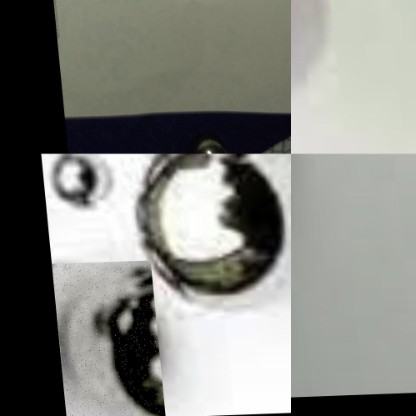ironball: (128, 153, 290, 318), (47, 260, 158, 415), (37, 153, 119, 222), (50, 0, 57, 38)
